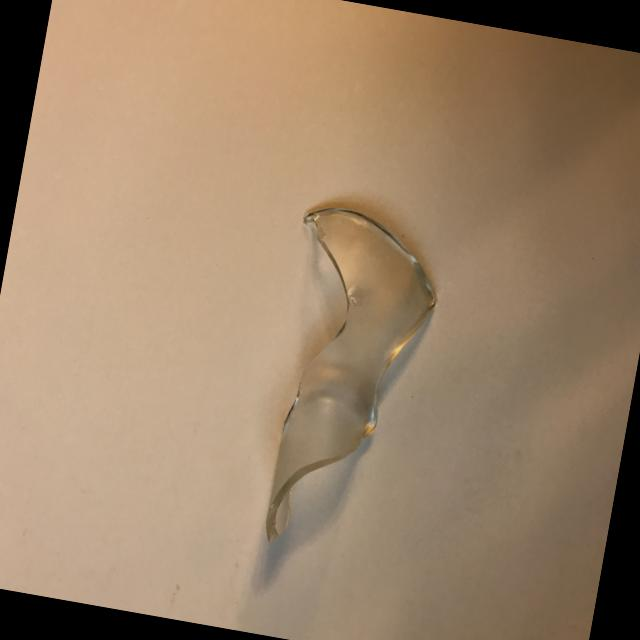Glass: (221, 183, 477, 581)
